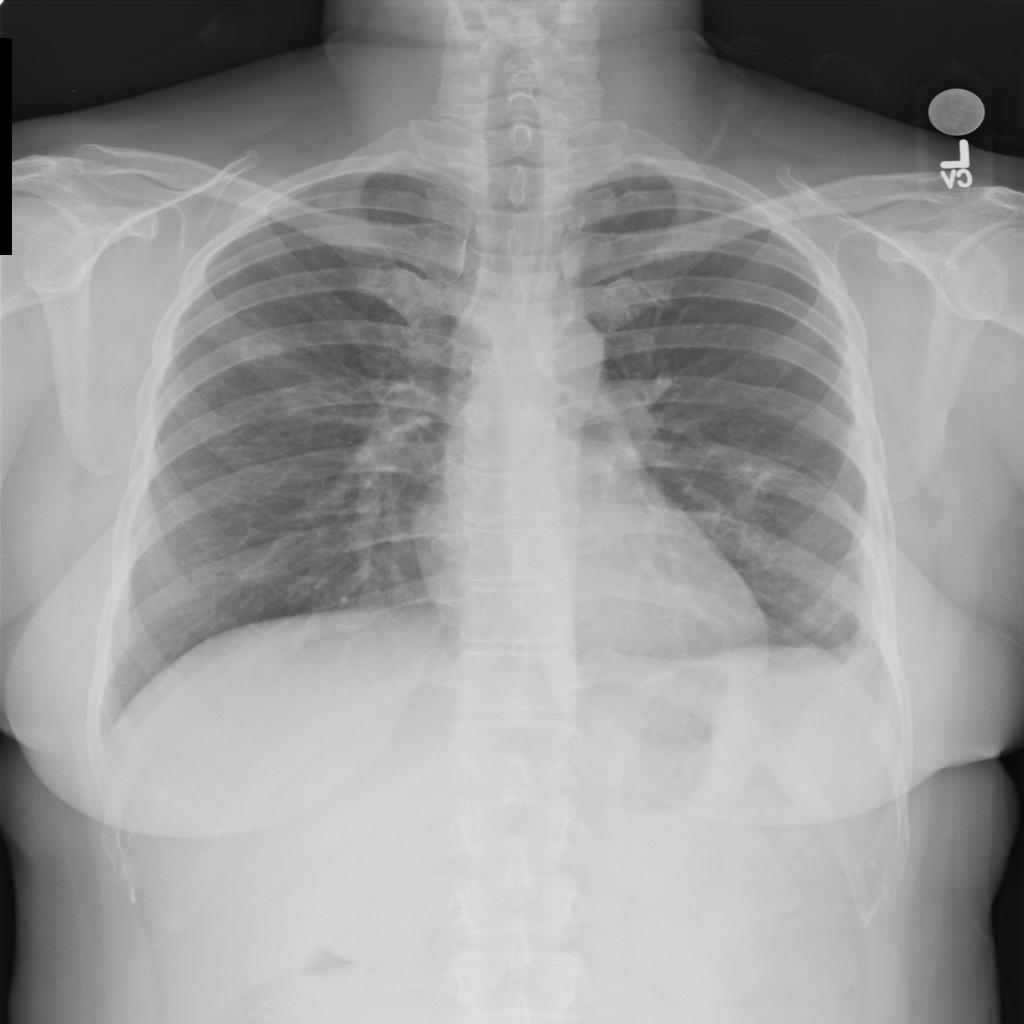nodule: (223, 315, 307, 377)
